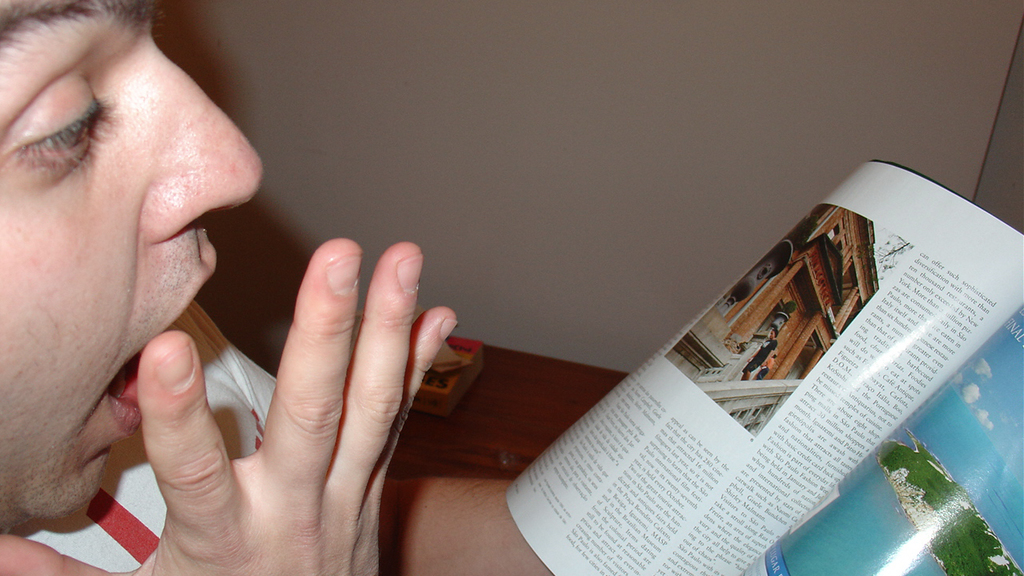Book: (521, 184, 993, 563)
